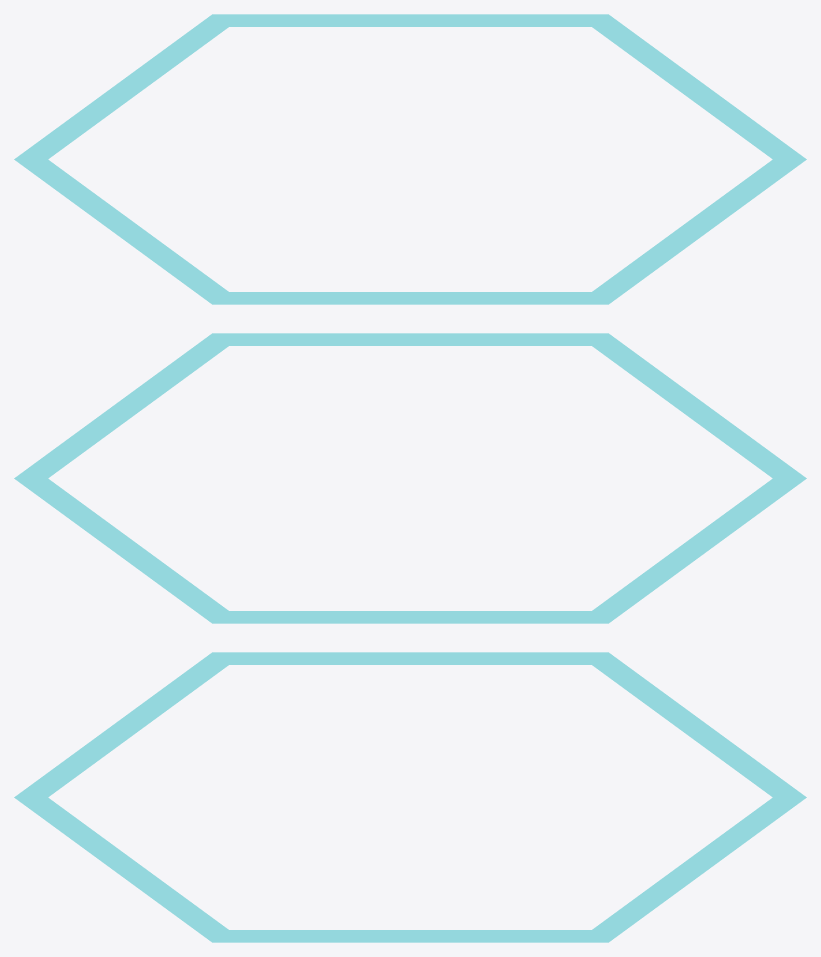
The model's file is hex_outline.fbx.
The picture shows the model from 3 angles, top to bottom: view 1: azimuth 30°, elevation 25°; view 2: azimuth 150°, elevation 25°; view 3: azimuth 270°, elevation 25°; orthographic projection.
Visible parts, largest first — view 1: hex_water; view 2: hex_water; view 3: hex_water.
Part boxes in pixels (box(x1,y1,x2,y2)): hex_water: box(14, 14, 806, 304); hex_water: box(14, 333, 806, 623); hex_water: box(14, 652, 806, 942).
Size of the model in its own units: 200 by 3.76e-05 by 231.
